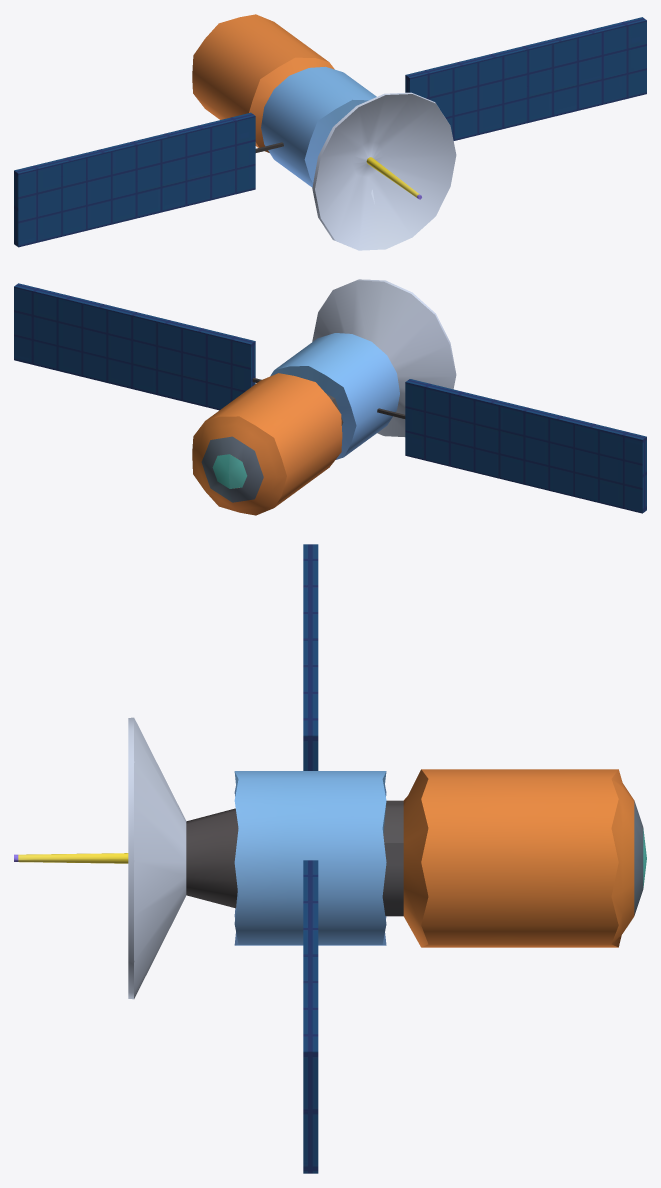
File: vetinh.fbx
3 views of the same model, one above another, from view 1: azimuth 30°, elevation 25°; view 2: azimuth 150°, elevation 25°; view 3: azimuth 270°, elevation 25° (orthographic). The views are drawn at different scales.
Parts seen in each view (by area): view 1: Satellite_Satellite_0; view 2: Satellite_Satellite_0; view 3: Satellite_Satellite_0.
Part boxes in pixels (x1=…): Satellite_Satellite_0: x1=14, y1=14, x2=646, y2=250; Satellite_Satellite_0: x1=14, y1=279, x2=646, y2=515; Satellite_Satellite_0: x1=14, y1=544, x2=646, y2=1173.
Bounding box in the file's own units: 371 × 87.08 × 196.
